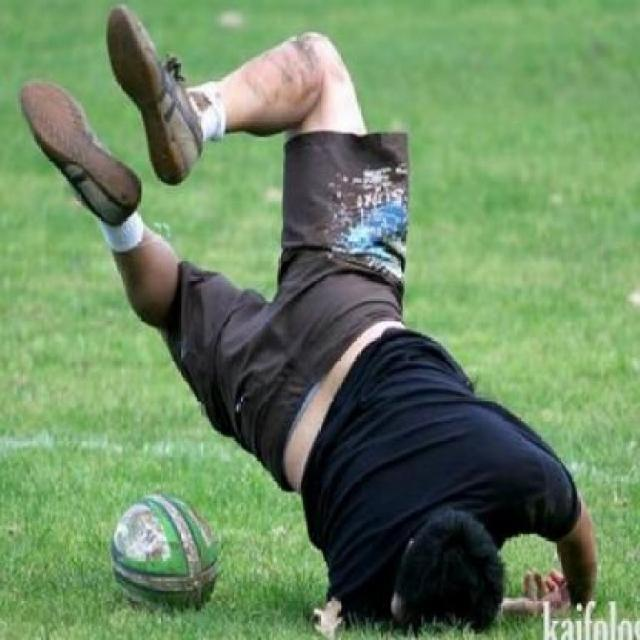fall: (12, 6, 596, 639)
